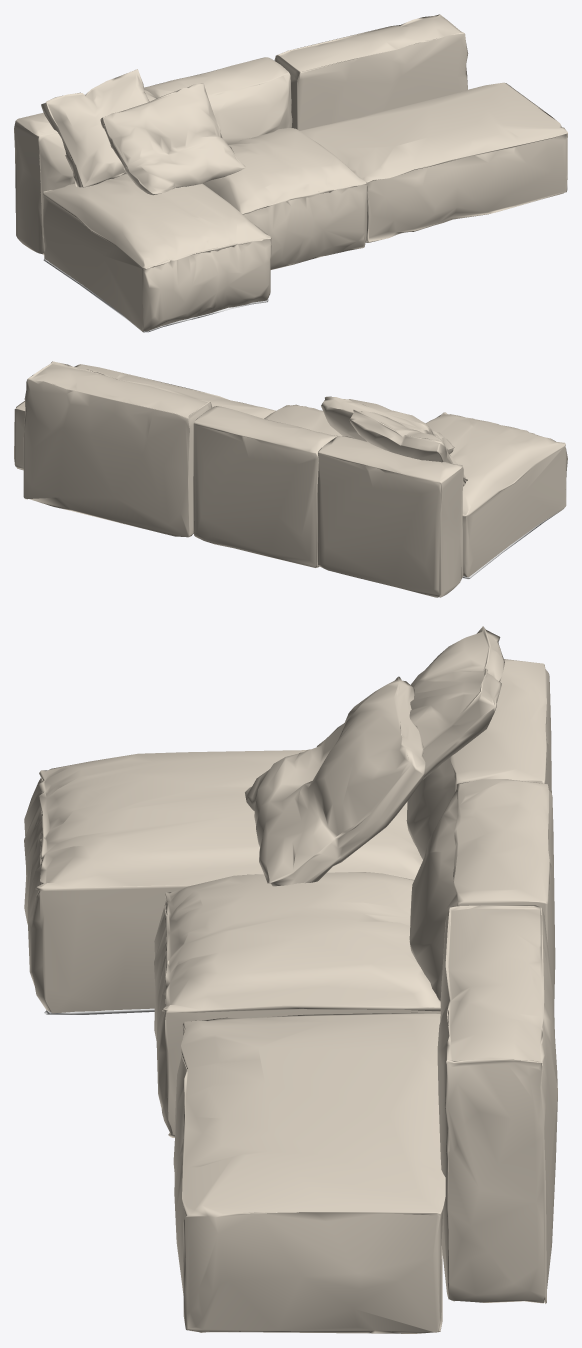
File: sofa-modelo-triplo-alcochoado.glb
3 renders of one model, top to bottom at view 1: azimuth 30°, elevation 25°; view 2: azimuth 150°, elevation 25°; view 3: azimuth 270°, elevation 25°, orthographic. The views are drawn at different scales.
Visible parts, largest first — view 1: Modelo Triplo Alcochoado; view 2: Modelo Triplo Alcochoado; view 3: Modelo Triplo Alcochoado.
Part boxes in pixels (bbox=[...]): Modelo Triplo Alcochoado: bbox=[14, 14, 567, 332]; Modelo Triplo Alcochoado: bbox=[14, 361, 567, 597]; Modelo Triplo Alcochoado: bbox=[24, 626, 557, 1333].
Bounding box in the file's own units: 2.84 × 0.9366 × 1.43.
